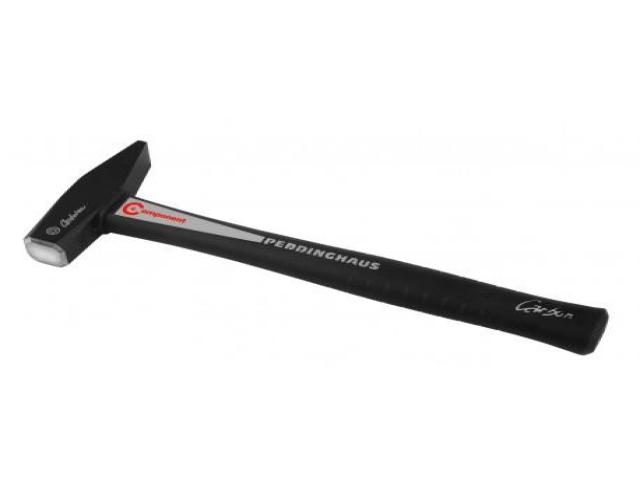hammer: (25, 138, 608, 355)
